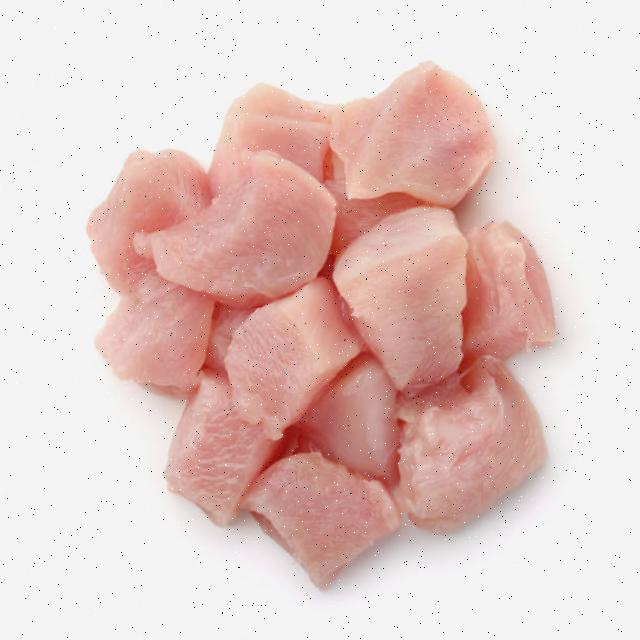Chicken: (71, 26, 556, 548)
